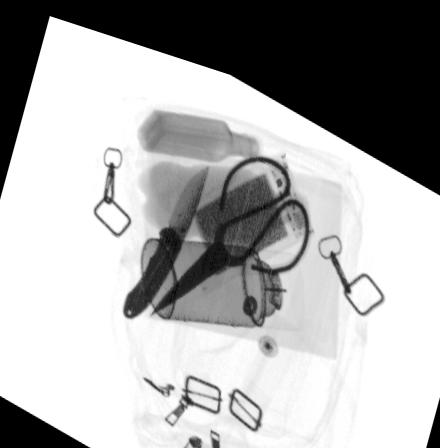Knife: (121, 153, 209, 312)
Powerbank: (173, 132, 317, 284)
Scissors: (141, 137, 309, 312)
Sprayer: (138, 223, 304, 309)
